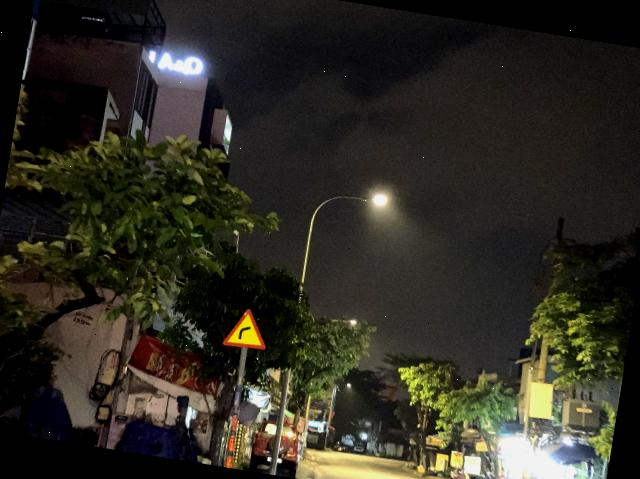cho-ngoat-nguy-hiem-ben-trai: (222, 304, 272, 352)
